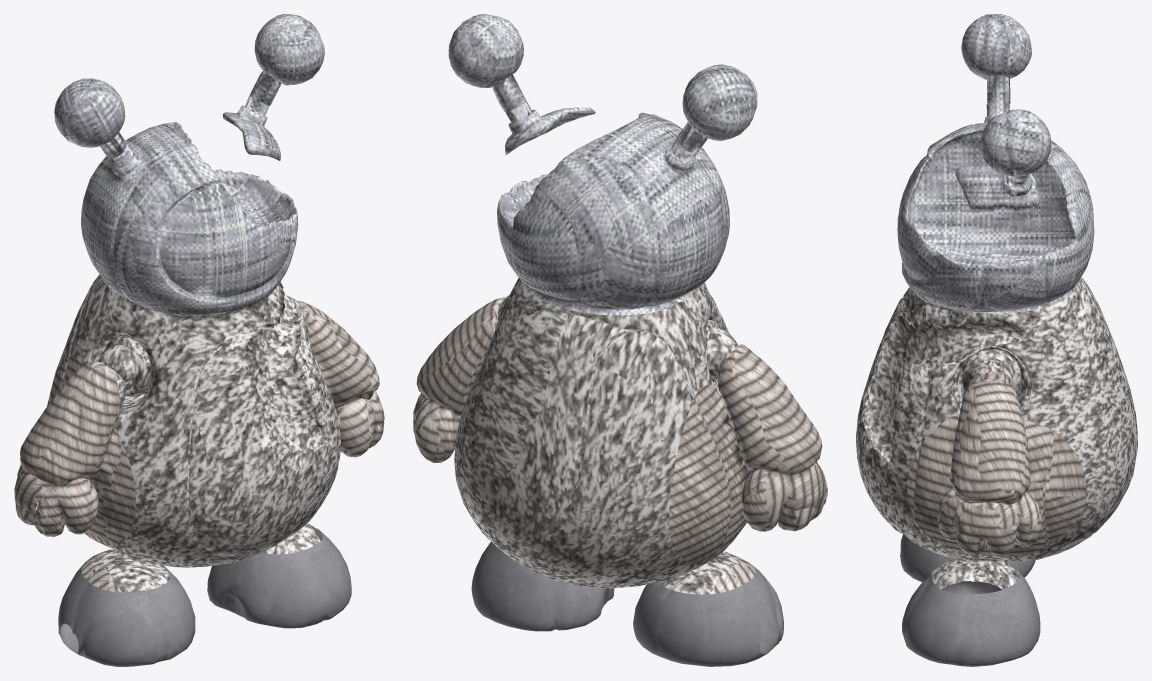
File: 07-bulb-sphereling--cute_robot_3d_model.glb
3 views of the same model, side by side, from view 1: azimuth 30°, elevation 25°; view 2: azimuth 150°, elevation 25°; view 3: azimuth 270°, elevation 25° (orthographic). The views are drawn at different scales.
Visible parts, largest first — view 1: body_mesh, head_mesh, arms_mesh, feet_mesh; view 2: body_mesh, head_mesh, arms_mesh, feet_mesh; view 3: body_mesh, head_mesh, arms_mesh, feet_mesh.
Boxes of the visible parts, <box> form: body_mesh: <box>52,274,338,592</box>; head_mesh: <box>54,14,324,314</box>; arms_mesh: <box>14,300,384,592</box>; feet_mesh: <box>58,524,351,666</box>; body_mesh: <box>455,278,750,594</box>; head_mesh: <box>448,14,757,315</box>; arms_mesh: <box>413,296,827,594</box>; feet_mesh: <box>471,541,783,666</box>; body_mesh: <box>856,276,1137,589</box>; head_mesh: <box>897,14,1094,313</box>; arms_mesh: <box>907,372,1086,556</box>; feet_mesh: <box>900,534,1040,666</box>.
Bounding box in the file's own units: 2.05 × 3 × 1.4.
4 materials, 4 textured.
